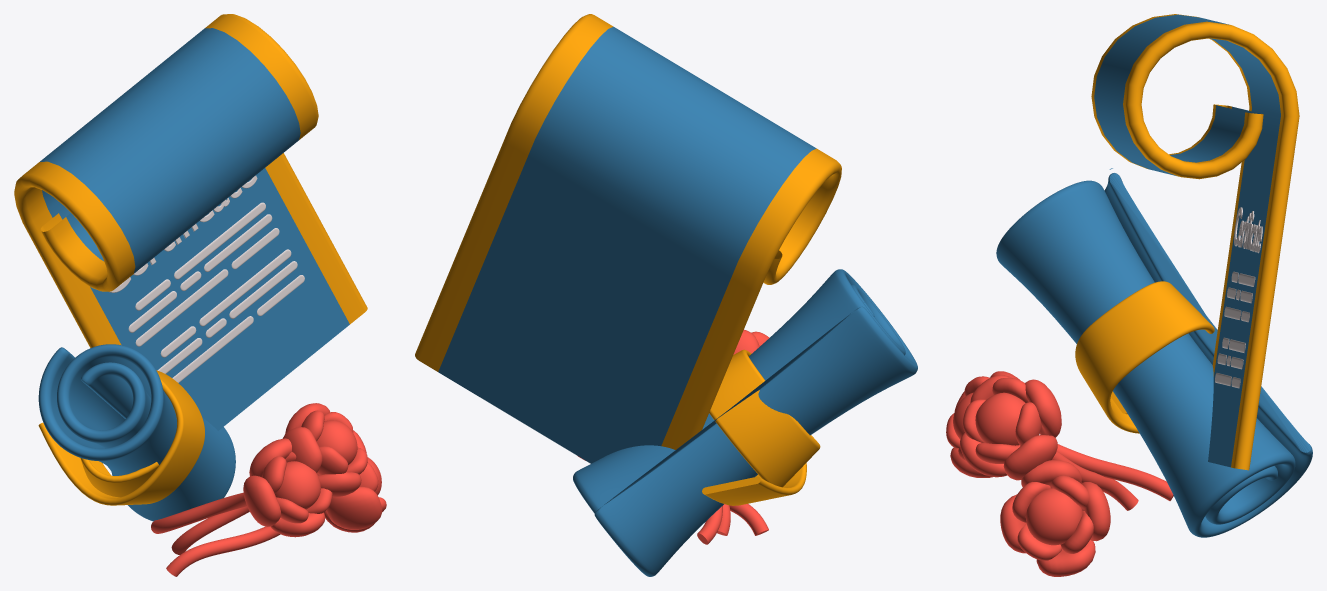
Rendered from Certificate Scroll.glb.
3 renders of one model, left to right at view 1: azimuth 30°, elevation 25°; view 2: azimuth 150°, elevation 25°; view 3: azimuth 270°, elevation 25°, orthographic. The views are drawn at different scales.
Visible parts, largest first — view 1: Spiral.003, Spiral.002, NurbsPath.045, Cube.203, NurbsPath.048, Cube.202, NurbsPath.047, Cube.196, NurbsPath.046, Cube.193, Cube.187, Circle.092 (+16 smaller); view 2: Spiral.003, Spiral.002, NurbsPath.045; view 3: Spiral.002, Spiral.003, NurbsPath.045, Cube.211, Cube.193, NurbsPath.047, Cube.188, Cube.186, Cube.206, Cube.204, NurbsPath.046, Cube.205 (+11 smaller).
Boxes of the visible parts, x1=… form: Spiral.003: x1=14, y1=14, x2=367, y2=430; Spiral.002: x1=38, y1=344, x2=235, y2=521; NurbsPath.045: x1=38, y1=370, x2=204, y2=505; Cube.203: x1=326, y1=486, x2=382, y2=529; NurbsPath.048: x1=166, y1=526, x2=280, y2=576; Cube.202: x1=275, y1=461, x2=320, y2=509; NurbsPath.047: x1=151, y1=492, x2=246, y2=533; Cube.196: x1=243, y1=475, x2=281, y2=526; NurbsPath.046: x1=171, y1=506, x2=249, y2=554; Cube.193: x1=316, y1=420, x2=357, y2=464; Cube.187: x1=282, y1=427, x2=322, y2=472; Circle.092: x1=199, y1=249, x2=291, y2=326; Spiral.003: x1=415, y1=14, x2=841, y2=463; Spiral.002: x1=573, y1=269, x2=917, y2=576; NurbsPath.045: x1=702, y1=349, x2=820, y2=505; Spiral.002: x1=996, y1=168, x2=1312, y2=537; Spiral.003: x1=1091, y1=14, x2=1299, y2=470; NurbsPath.045: x1=1075, y1=281, x2=1214, y2=433; Cube.211: x1=1025, y1=488, x2=1082, y2=545; Cube.193: x1=975, y1=392, x2=1025, y2=445; NurbsPath.047: x1=1057, y1=444, x2=1173, y2=500; Cube.188: x1=1003, y1=435, x2=1057, y2=480; Cube.186: x1=1025, y1=379, x2=1061, y2=437; Cube.206: x1=1036, y1=540, x2=1095, y2=576; Cube.204: x1=1081, y1=482, x2=1110, y2=541; NurbsPath.046: x1=1052, y1=451, x2=1138, y2=510; Cube.205: x1=1021, y1=460, x2=1081, y2=487.
Bounding box in the file's own units: 2.15 × 2.56 × 1.55.
